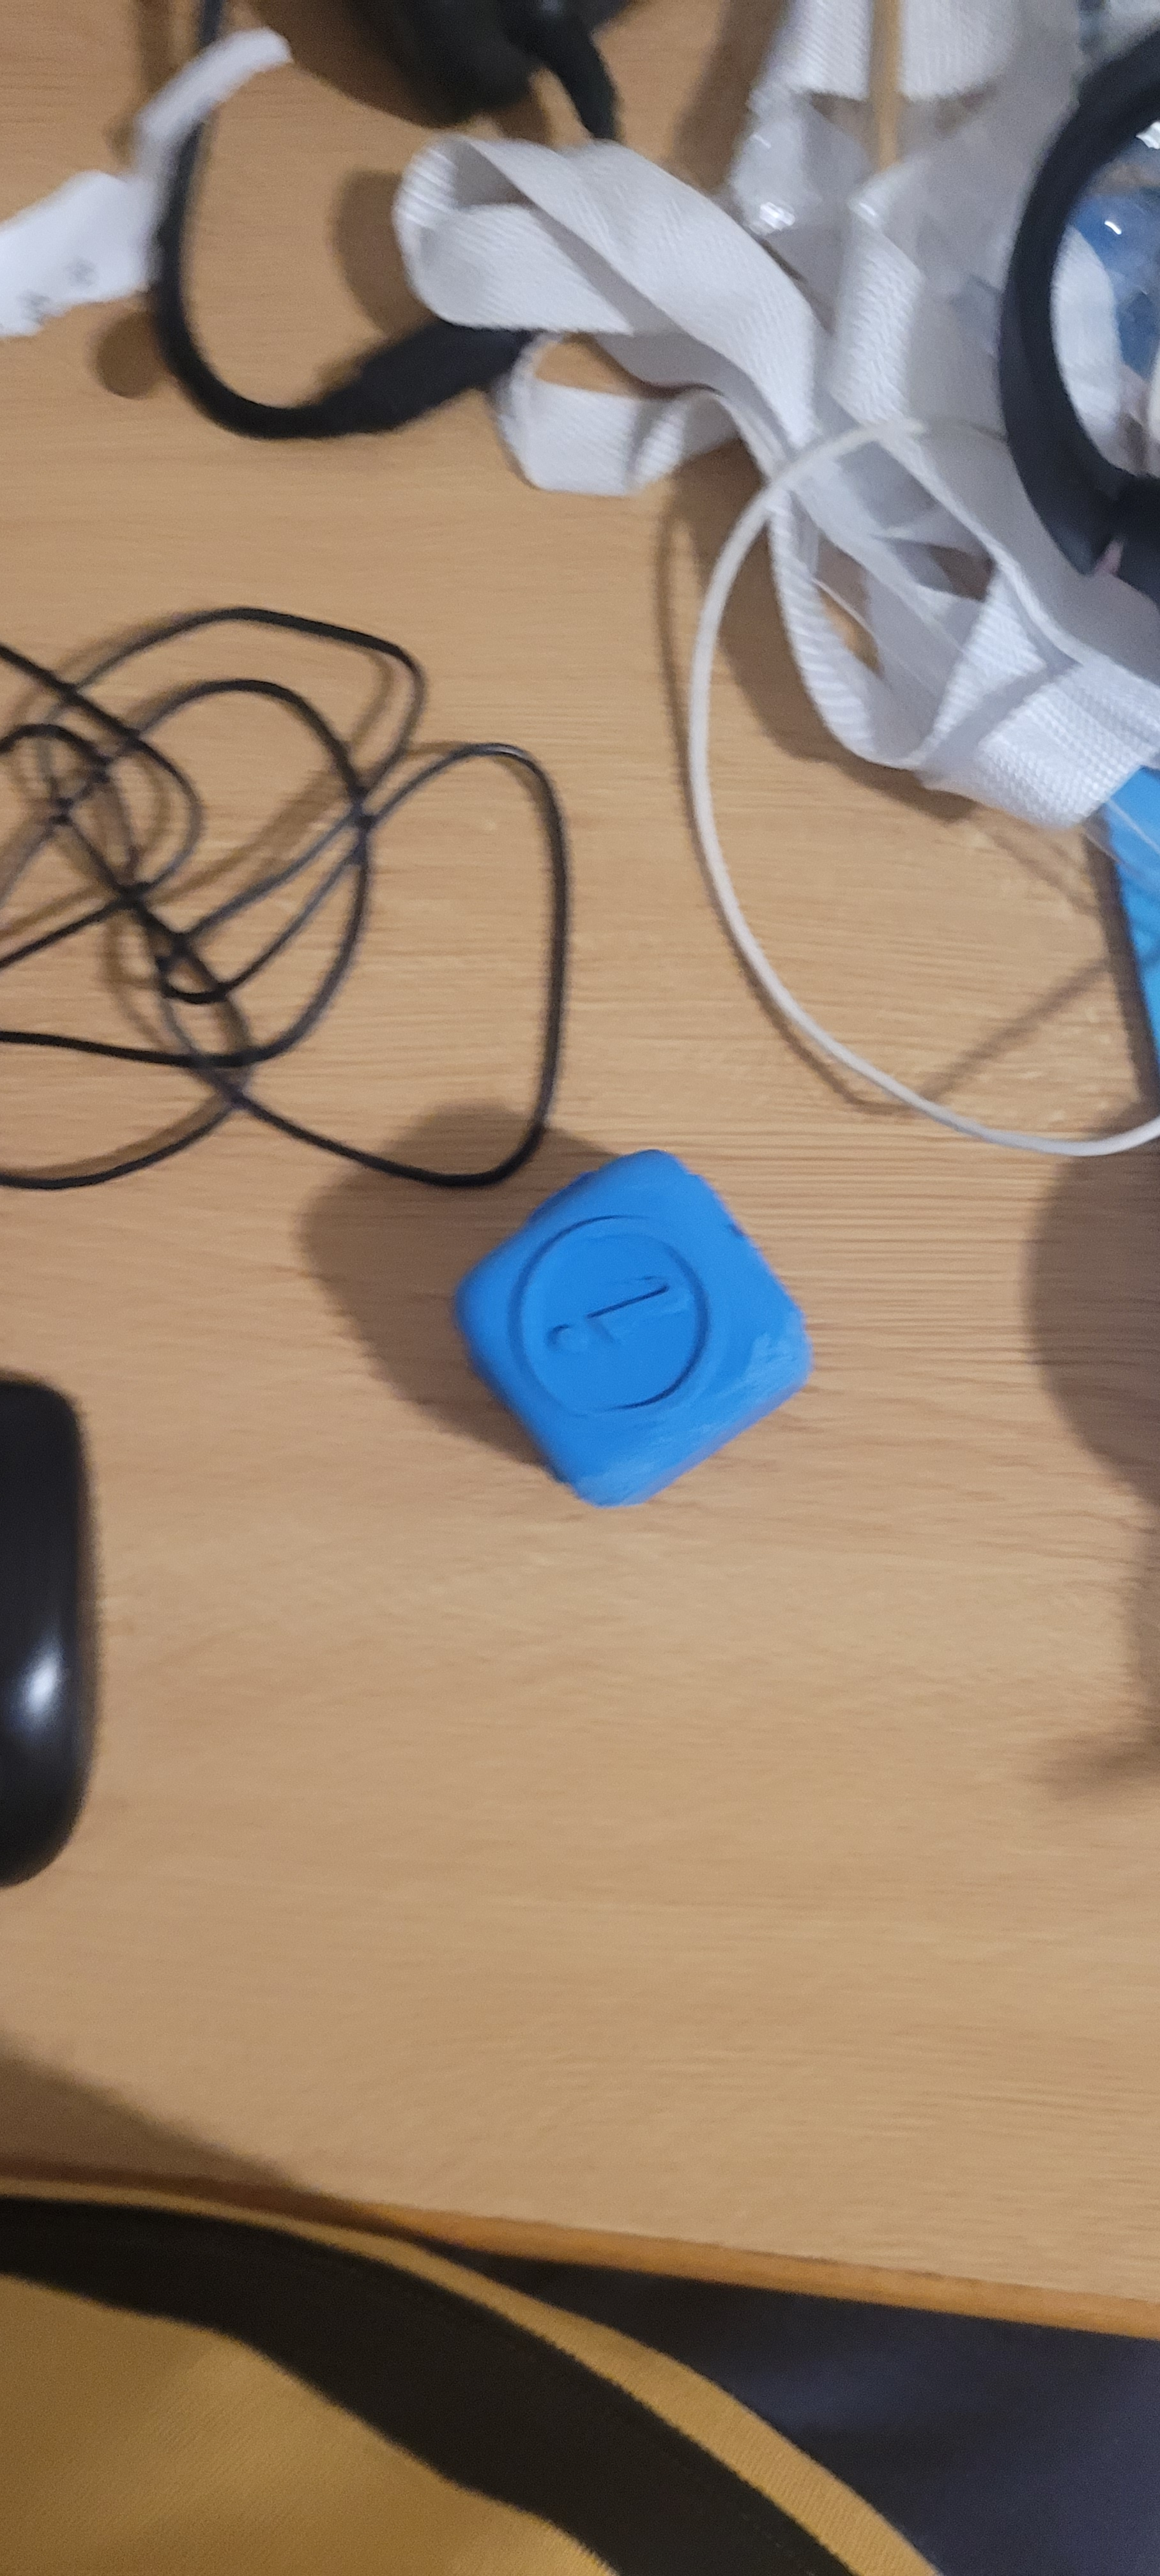Info: (470, 1188, 731, 1470)
